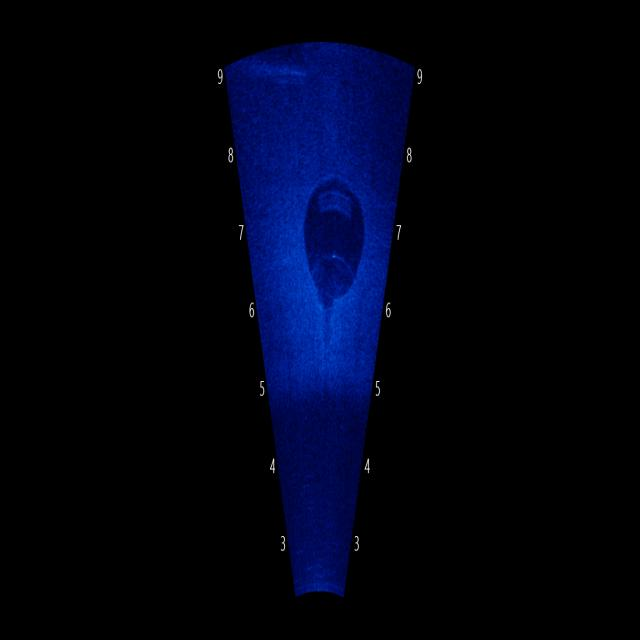circle: (293, 134, 373, 324)
